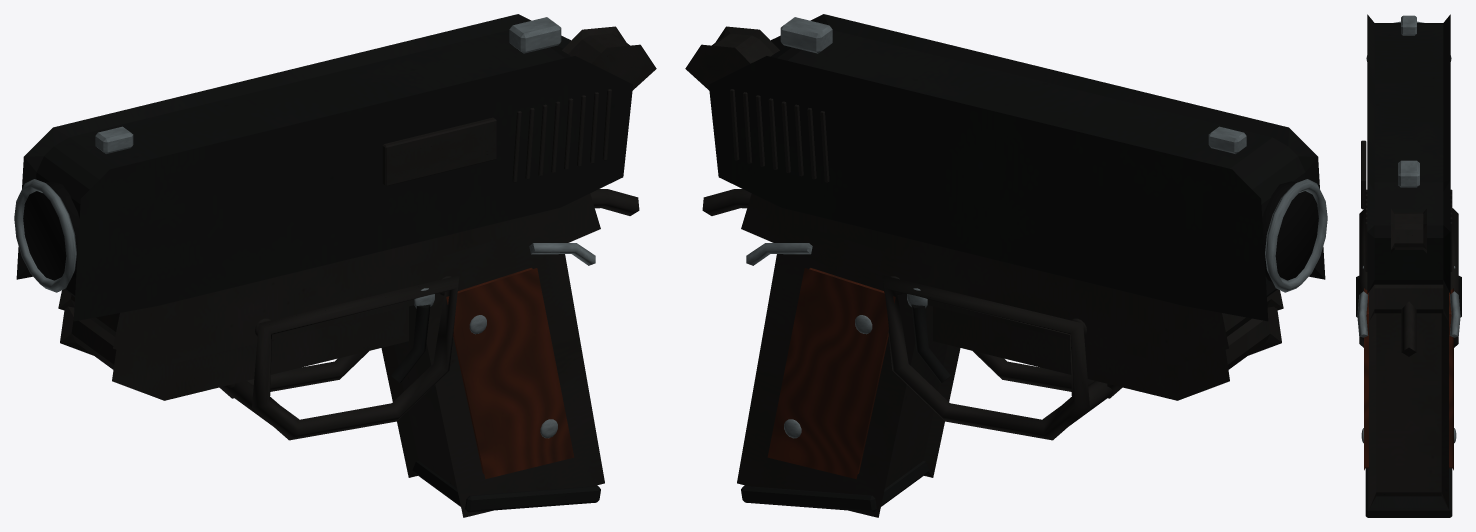
Rendered from vintage_pistol_prop_LOD1.glb.
3 views of the same model, side by side, from view 1: azimuth 30°, elevation 25°; view 2: azimuth 150°, elevation 25°; view 3: azimuth 270°, elevation 25° (orthographic). The views are drawn at different scales.
Visible parts, largest first — view 1: Sealed nonfunctional slide, Solid swept grip frame, Low solid upper frame rail, Walnut grip panel -1, Closed front dust cover, Closed oval trigger guard rail -1, Closed ejection-port relief, Solid closed muzzle face, Solid fixed external hammer, Sealed grip heel plate, Muzzle exterior ring, Closed oval trigger guard rail 1 (+5 smaller); view 2: Sealed nonfunctional slide, Solid swept grip frame, Low solid upper frame rail, Walnut grip panel 1, Closed front dust cover, Closed oval trigger guard rail 1, Solid closed muzzle face, Solid fixed external hammer, Sealed grip heel plate, Muzzle exterior ring, Closed oval trigger guard rail -1, Rear sight blade (+4 smaller); view 3: Sealed nonfunctional slide, Solid swept grip frame, Low solid upper frame rail, Sealed grip heel plate, Solid fixed external hammer, External beavertail contour, Walnut grip panel 1, Walnut grip panel -1, Closed oval trigger guard rail 1, Closed oval trigger guard rail -1, Rear sight blade, Fixed external safety lever 1 (+4 smaller).
Part boxes in pixels (x1,y1,x2,y2): Sealed nonfunctional slide: (16,14,632,321); Solid swept grip frame: (381,220,604,517); Low solid upper frame rail: (58,193,600,364); Walnut grip panel -1: (446,268,574,479); Closed front dust cover: (60,306,408,400); Closed oval trigger guard rail -1: (252,275,459,440); Closed ejection-port relief: (382,117,496,186); Solid closed muzzle face: (23,181,79,282); Solid fixed external hammer: (562,26,656,90); Sealed grip heel plate: (412,461,600,512); Muzzle exterior ring: (14,179,76,292); Closed oval trigger guard rail 1: (219,351,368,398); Sealed nonfunctional slide: (709,14,1325,321); Solid swept grip frame: (737,220,960,517); Low solid upper frame rail: (741,193,1283,364); Walnut grip panel 1: (767,268,895,479); Closed front dust cover: (933,306,1281,400); Closed oval trigger guard rail 1: (882,275,1089,440); Solid closed muzzle face: (1262,181,1318,282); Solid fixed external hammer: (685,26,779,90); Sealed grip heel plate: (741,461,929,512); Muzzle exterior ring: (1265,179,1327,292); Closed oval trigger guard rail -1: (973,351,1122,398); Rear sight blade: (780,17,832,53); Sealed nonfunctional slide: (1367,14,1450,293); Solid swept grip frame: (1369,313,1448,508); Low solid upper frame rail: (1369,284,1448,320); Sealed grip heel plate: (1365,468,1452,517); Solid fixed external hammer: (1391,209,1426,253); External beavertail contour: (1401,301,1416,356); Walnut grip panel 1: (1449,288,1453,470); Walnut grip panel -1: (1364,288,1368,470); Closed oval trigger guard rail 1: (1450,208,1458,347); Closed oval trigger guard rail -1: (1359,209,1367,347); Rear sight blade: (1398,160,1419,187); Fixed external safety lever 1: (1449,291,1460,337).
Size of the model in its own units: 0.2812 by 0.2068 by 0.0584.
5 materials, 5 textured.
